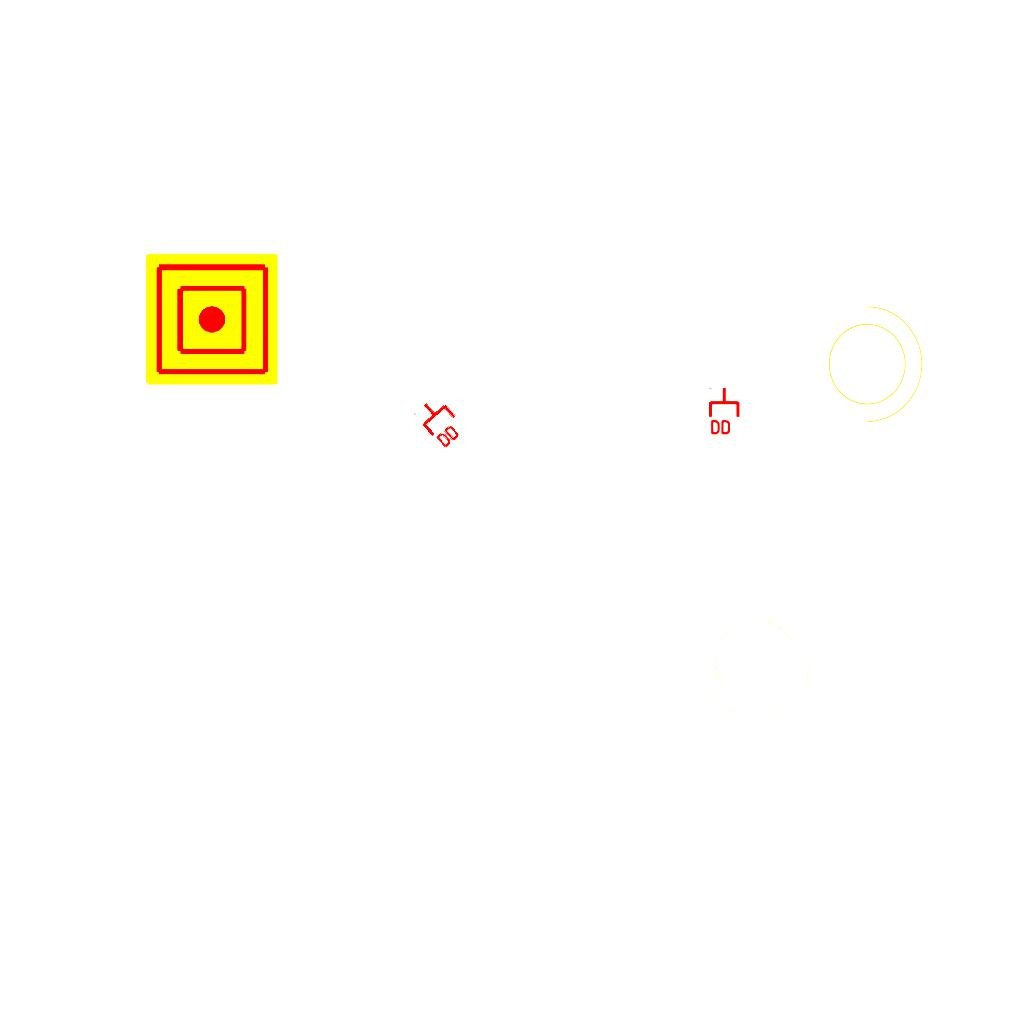Datenanschluss_zweifach: (411, 391, 471, 452), (708, 386, 742, 437)
NAM-Nichtautomatischer_Melder: (146, 253, 278, 385)
Scheinwerfer_fuer_Alarmbeleuchtung: (674, 578, 846, 744), (816, 295, 928, 427)
